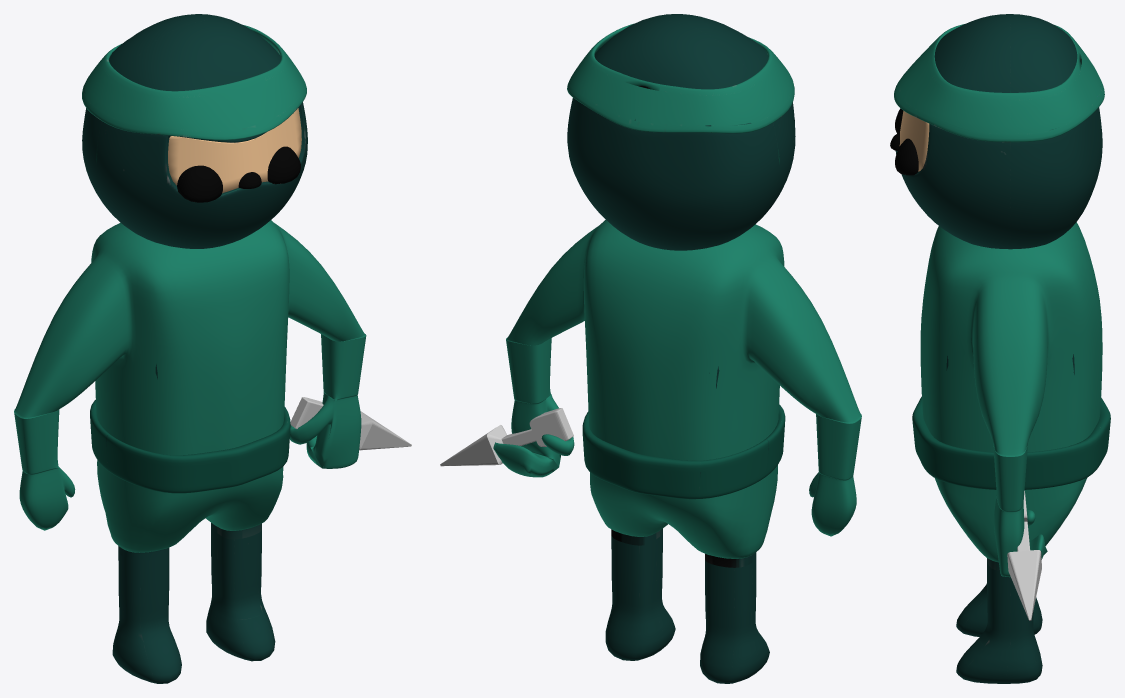
The model's file is model_three.fbx.
3 views of the same model, side by side, from view 1: azimuth 30°, elevation 25°; view 2: azimuth 150°, elevation 25°; view 3: azimuth 270°, elevation 25° (orthographic).
Visible parts, largest first — view 1: Roundcube.004, Roundcube, Roundcube.003, Roundcube.002, Roundcube.005, Roundcube.001, Roundcube.006, Sphere, Sphere.001; view 2: Roundcube.004, Roundcube, Roundcube.003, Roundcube.002, Roundcube.005, Roundcube.006; view 3: Roundcube.004, Roundcube, Roundcube.002, Roundcube.003, Roundcube.005, Roundcube.006, Roundcube.001, Sphere.001.
Part boxes in pixels (x1,y1,x2,y2): Roundcube.004: (14, 220, 366, 552); Roundcube: (82, 14, 307, 248); Roundcube.003: (112, 336, 286, 683); Roundcube.002: (82, 25, 306, 140); Roundcube.005: (90, 399, 290, 493); Roundcube.001: (168, 108, 301, 193); Roundcube.006: (290, 397, 411, 450); Sphere: (177, 165, 222, 202); Sphere.001: (267, 146, 300, 184); Roundcube.004: (493, 220, 861, 558); Roundcube: (567, 14, 795, 250); Roundcube.003: (586, 338, 769, 683); Roundcube.002: (567, 23, 794, 133); Roundcube.005: (582, 404, 785, 499); Roundcube.006: (440, 408, 573, 466); Roundcube.004: (920, 222, 1102, 577); Roundcube: (895, 14, 1102, 249); Roundcube.002: (894, 24, 1104, 142); Roundcube.003: (946, 354, 1074, 683); Roundcube.005: (912, 396, 1110, 489); Roundcube.006: (1007, 490, 1041, 620); Roundcube.001: (899, 110, 929, 171); Sphere.001: (895, 138, 918, 175).
Bounding box in the file's own units: 141 × 211 × 66.51.
